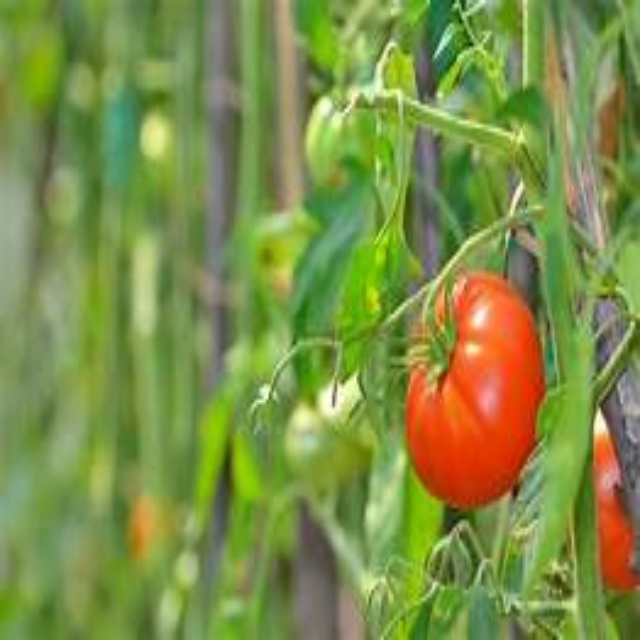tomato: (402, 261, 564, 513)
